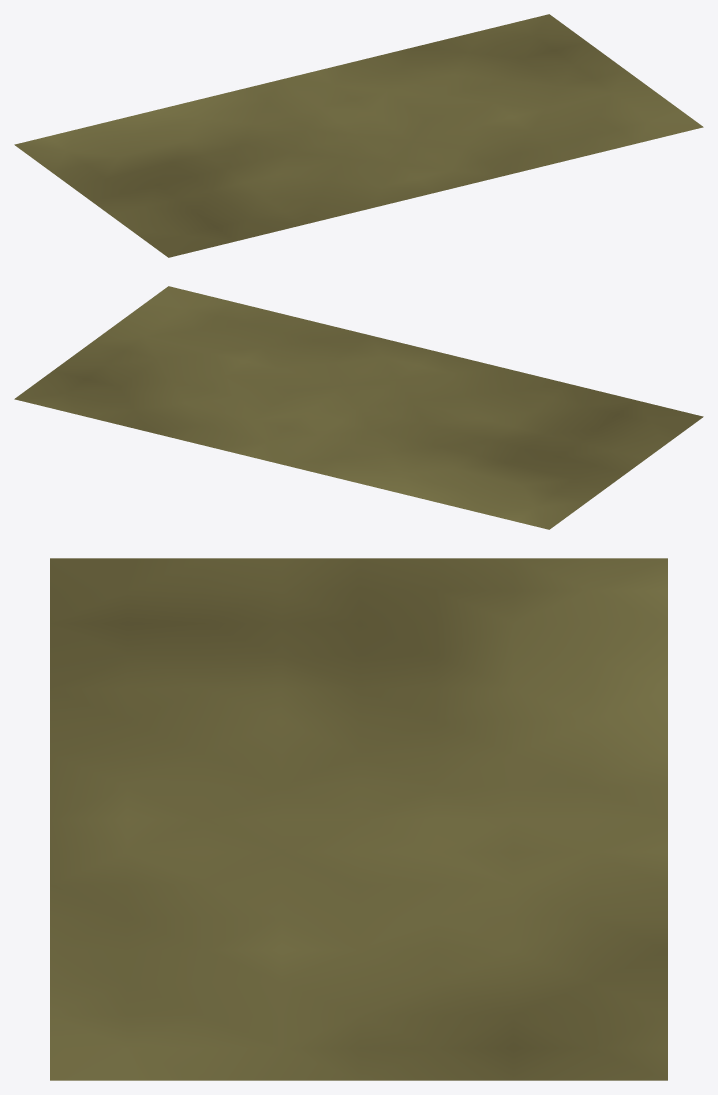
Rendered from terrain_lod1_-5_7.obj.
3 renders of one model, top to bottom at view 1: azimuth 30°, elevation 25°; view 2: azimuth 150°, elevation 25°; view 3: azimuth 270°, elevation 25°, orthographic. The views are drawn at different scales.
Parts seen in each view (by area): view 1: terrain_lod1_-5_7; view 2: terrain_lod1_-5_7; view 3: terrain_lod1_-5_7.
Boxes of the visible parts, box(x1,y1,x2,y2) form: terrain_lod1_-5_7: box(14, 14, 703, 257); terrain_lod1_-5_7: box(14, 286, 703, 529); terrain_lod1_-5_7: box(50, 558, 667, 1080).
Bounding box in the file's own units: 128 × 0 × 64.
